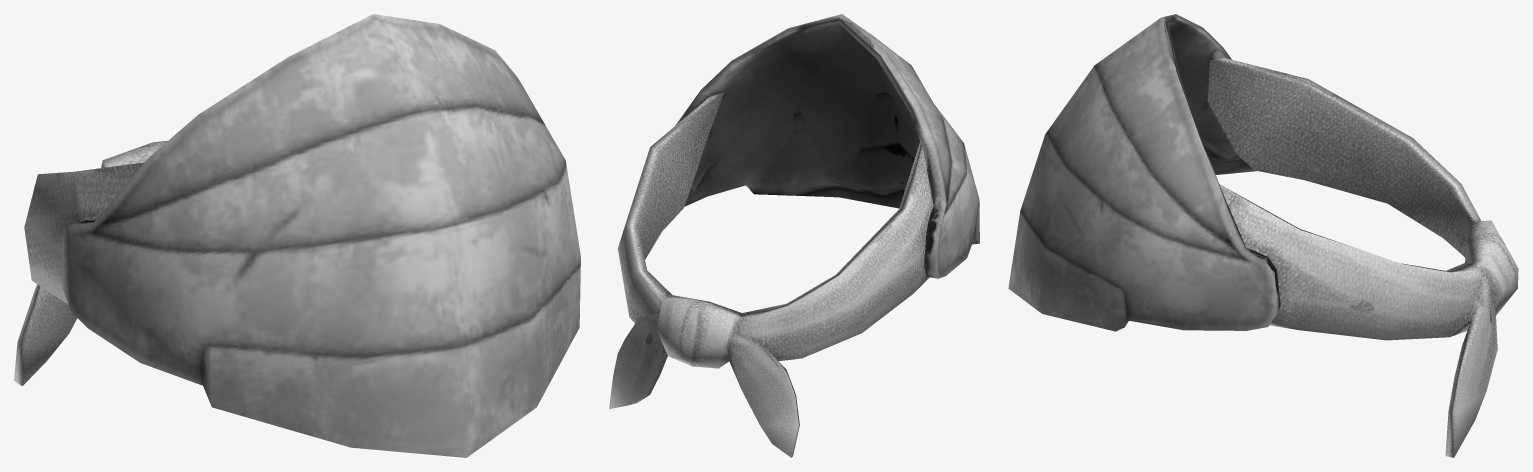
Rendered from rider-helmet-slice-heavycavalry.glb.
The picture shows the model from 3 angles, left to right: view 1: azimuth 30°, elevation 25°; view 2: azimuth 150°, elevation 25°; view 3: azimuth 270°, elevation 25°; orthographic projection. The views are drawn at different scales.
Bounding box in the file's own units: 0.2359 × 0.2495 × 0.3033.
1 material, 1 textured.
